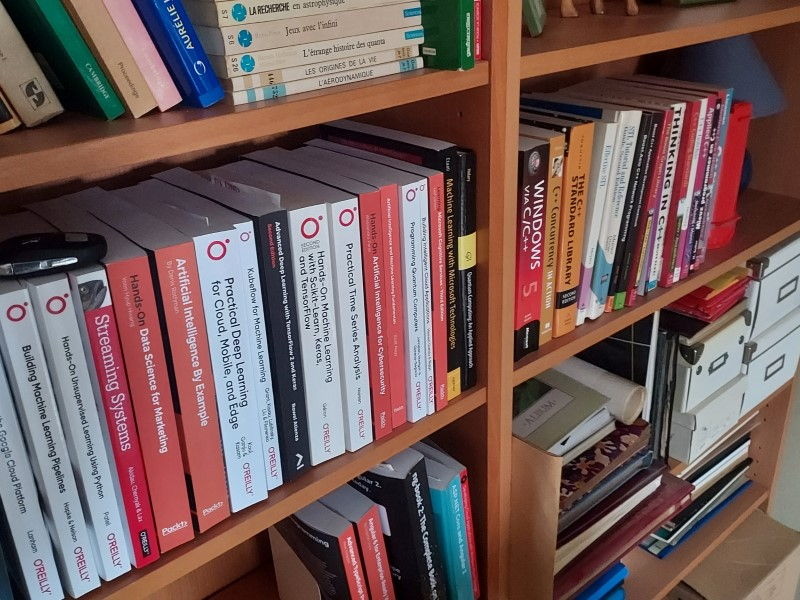carkey: (1, 228, 108, 286)
